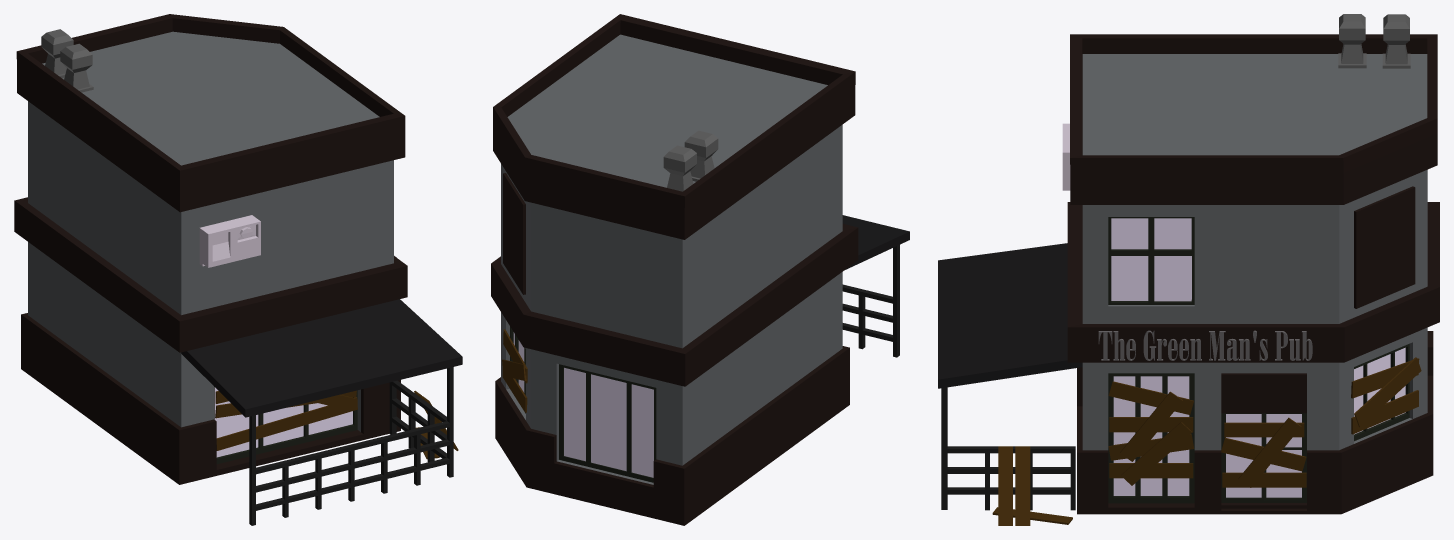
Rendered from closed_bar.fbx.
3 renders of one model, left to right at view 1: azimuth 30°, elevation 25°; view 2: azimuth 150°, elevation 25°; view 3: azimuth 270°, elevation 25°, orthographic. The views are drawn at different scales.
Parts seen in each view (by area): view 1: clsoed bar copy; view 2: clsoed bar copy; view 3: clsoed bar copy.
Part boxes in pixels (bbox=[...]): clsoed bar copy: bbox=[14, 14, 462, 525]; clsoed bar copy: bbox=[491, 14, 909, 525]; clsoed bar copy: bbox=[938, 14, 1439, 525].
Size of the model in its own units: 1537 by 2027 by 2391.
